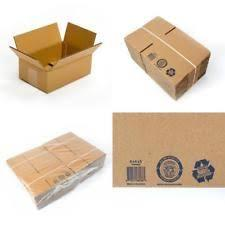Cardboard: (2, 14, 114, 110), (117, 106, 225, 195), (120, 13, 217, 105), (3, 122, 107, 207)
